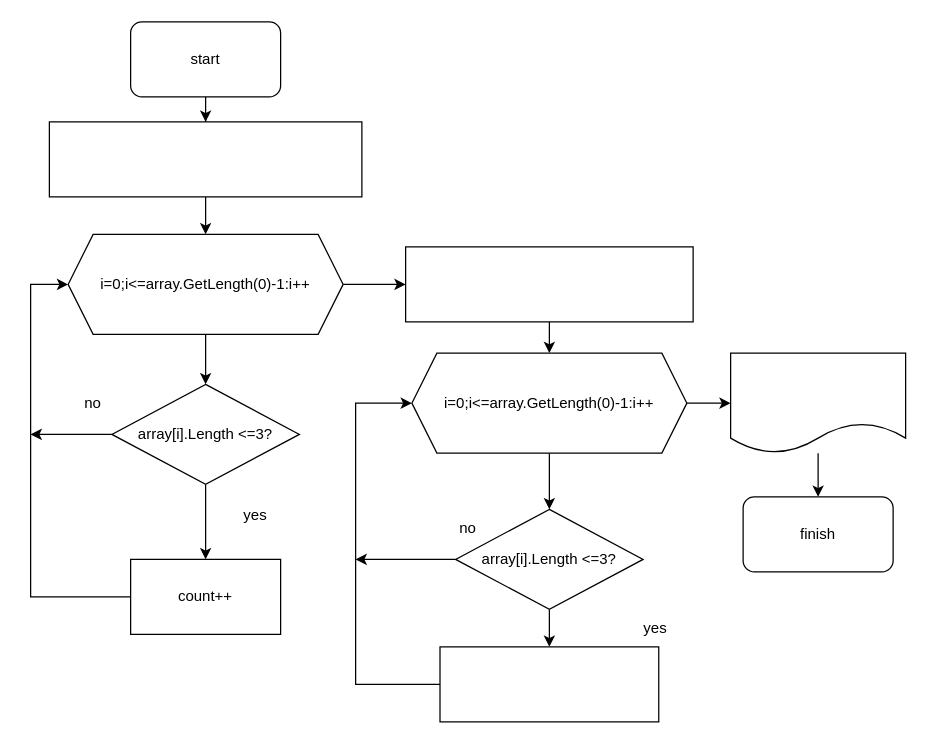
The diagram is 928 pixels wide and 744 high, and some of its shapes have lost their labels. Here are the shapes that lost their labels. From the top down, the centre of each, then its label:
pixel 205 159: string[] array = { "Hello", "2", "world", ":-)" }; int count = 0;
pixel 548 284: string[] newArray = new string[count]; count = 0;
pixel 817 402: console.Write(newArray)
pixel 549 684: newArray[count] = array[i]; count++
